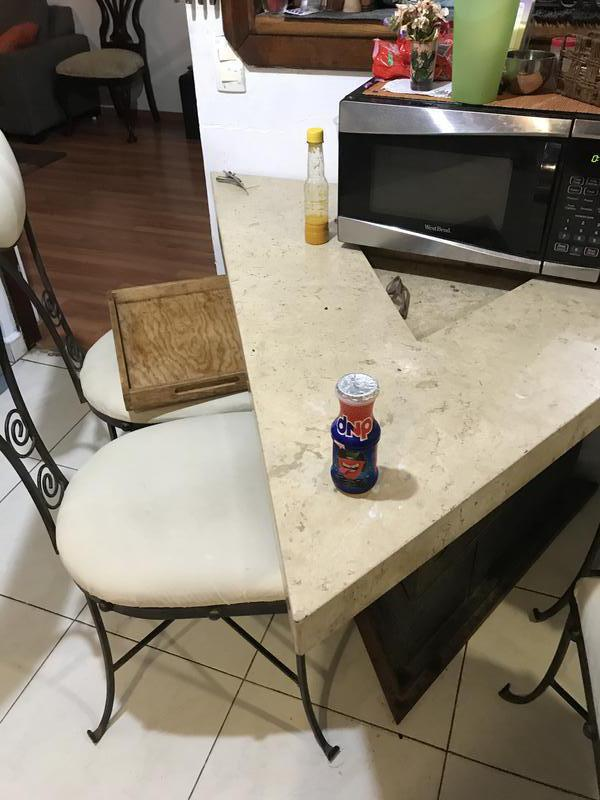danup: (329, 375, 380, 494)
